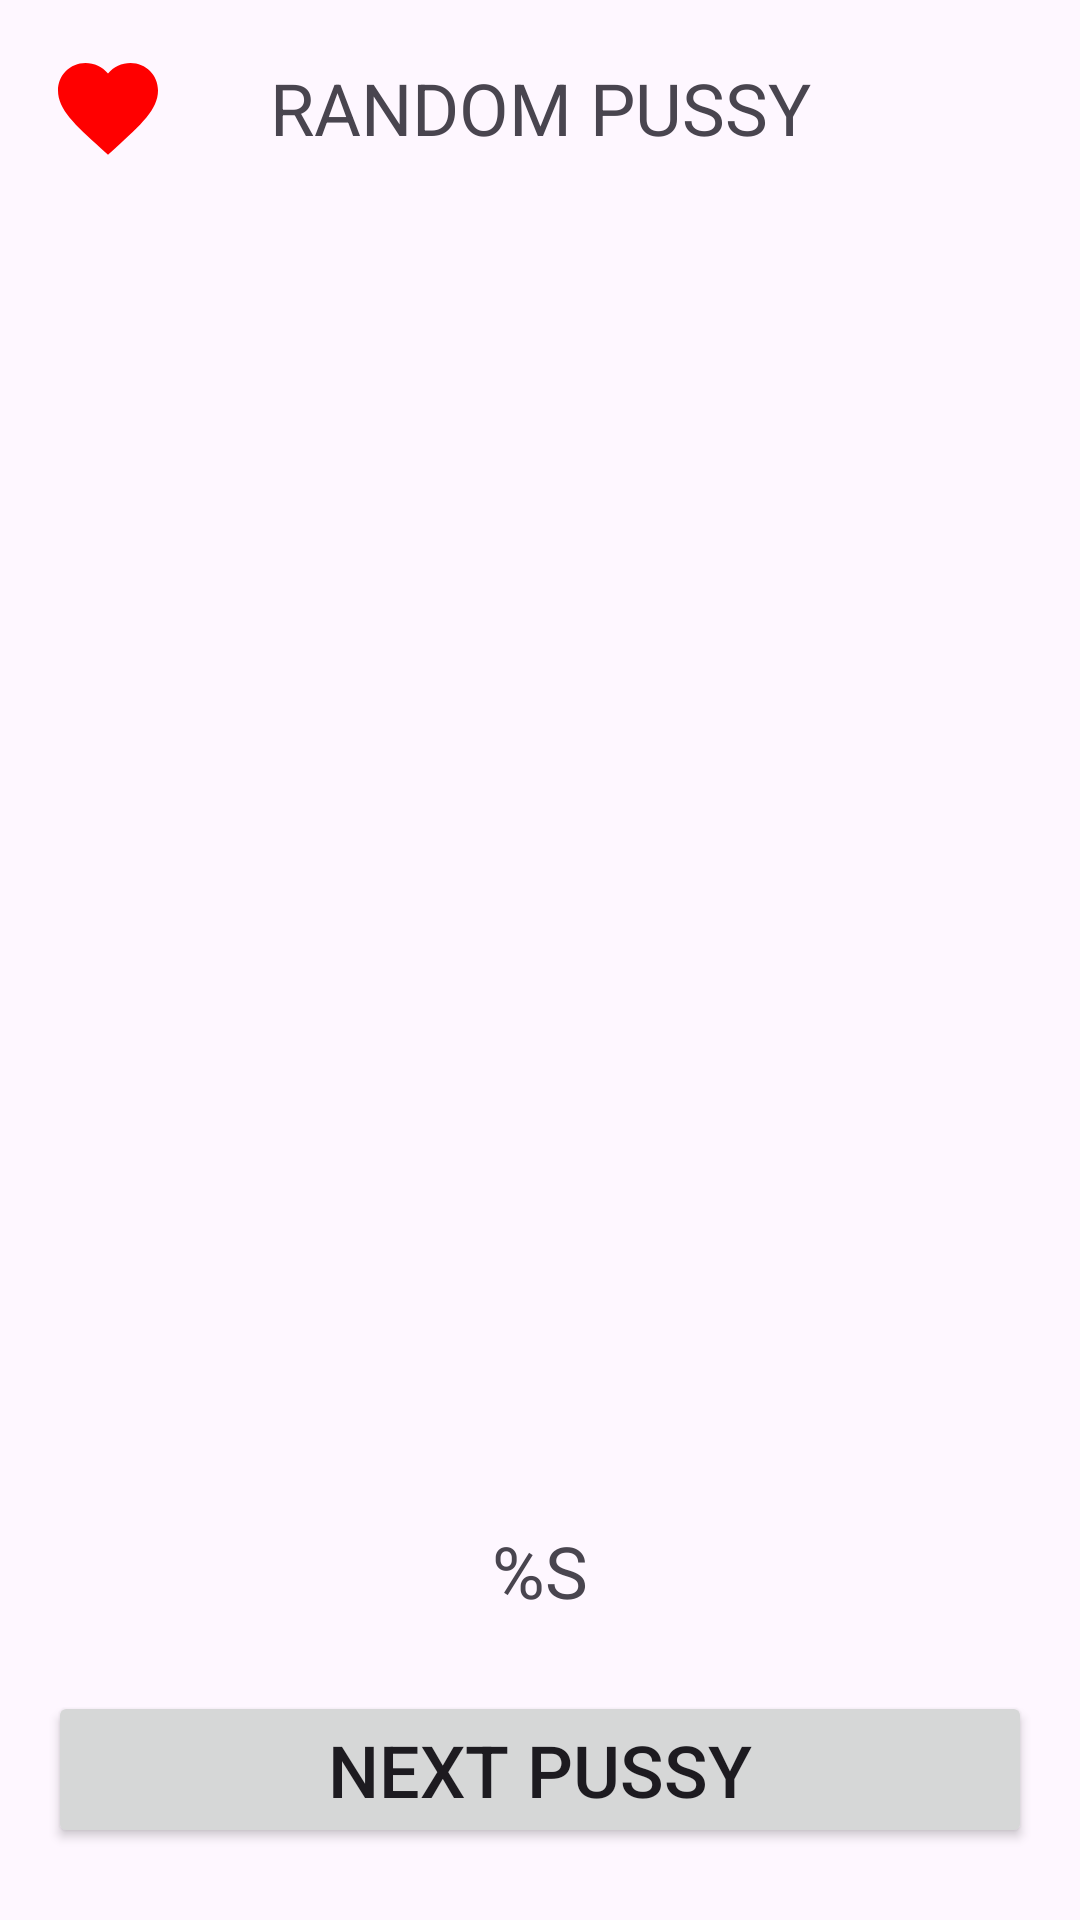

Locate icon controls on the screen. Image size 1080w x 1920h, boxes as (left=x1, top=y1, right=x2, bottom=y2).
favorites: (left=58, top=63, right=158, bottom=155)
